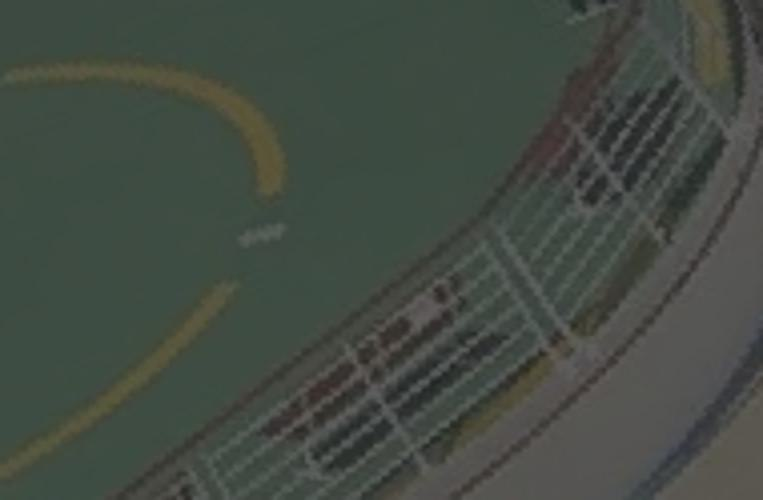Apron: (1, 47, 279, 485)
